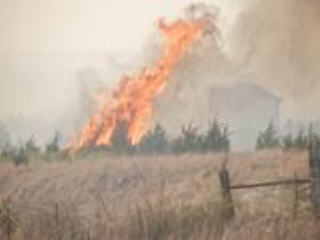fire: (52, 8, 198, 149)
smoke: (189, 9, 307, 107)
